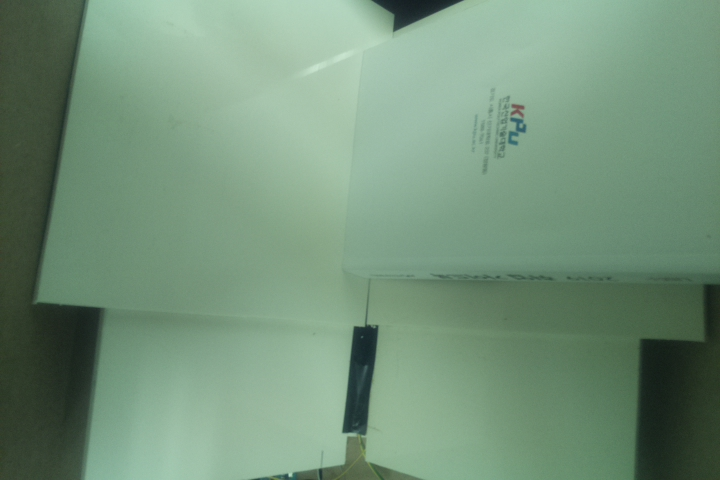book: (339, 2, 720, 289)
